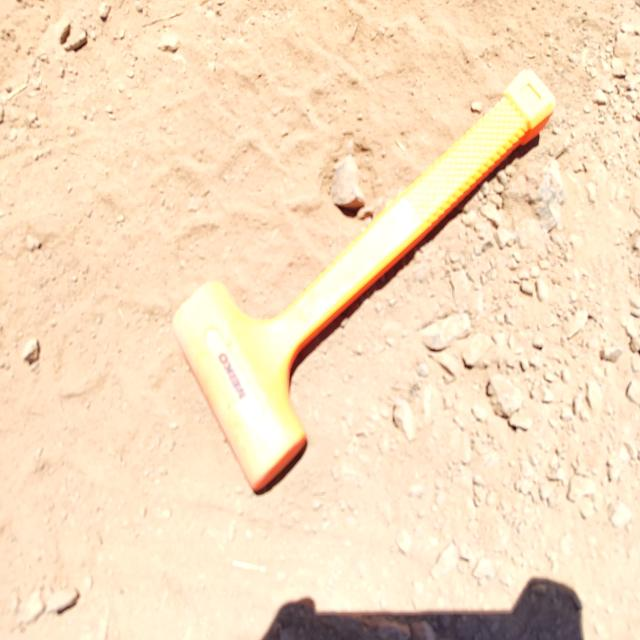Orange_hammer: (171, 67, 556, 494)
